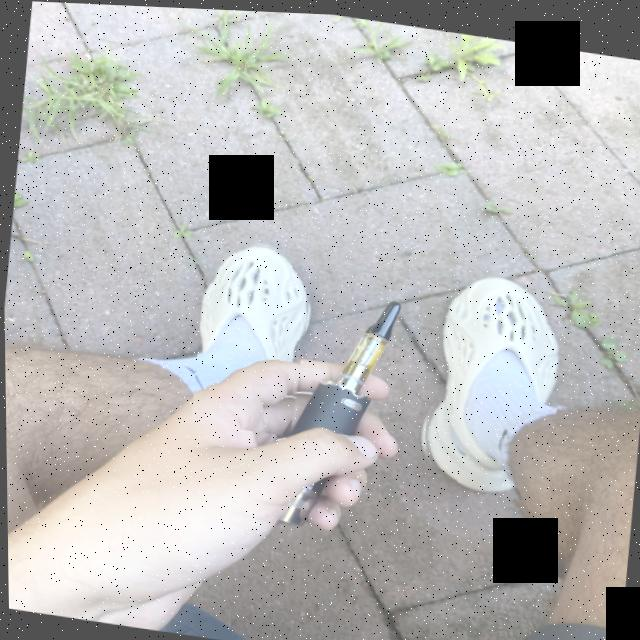shoe: (410, 260, 569, 499), (187, 231, 317, 435)
